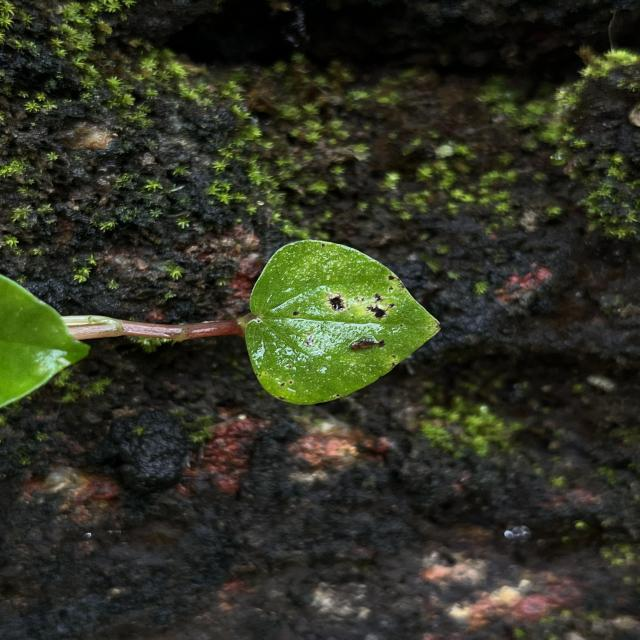Peperomia pellucida: (238, 236, 446, 411)
